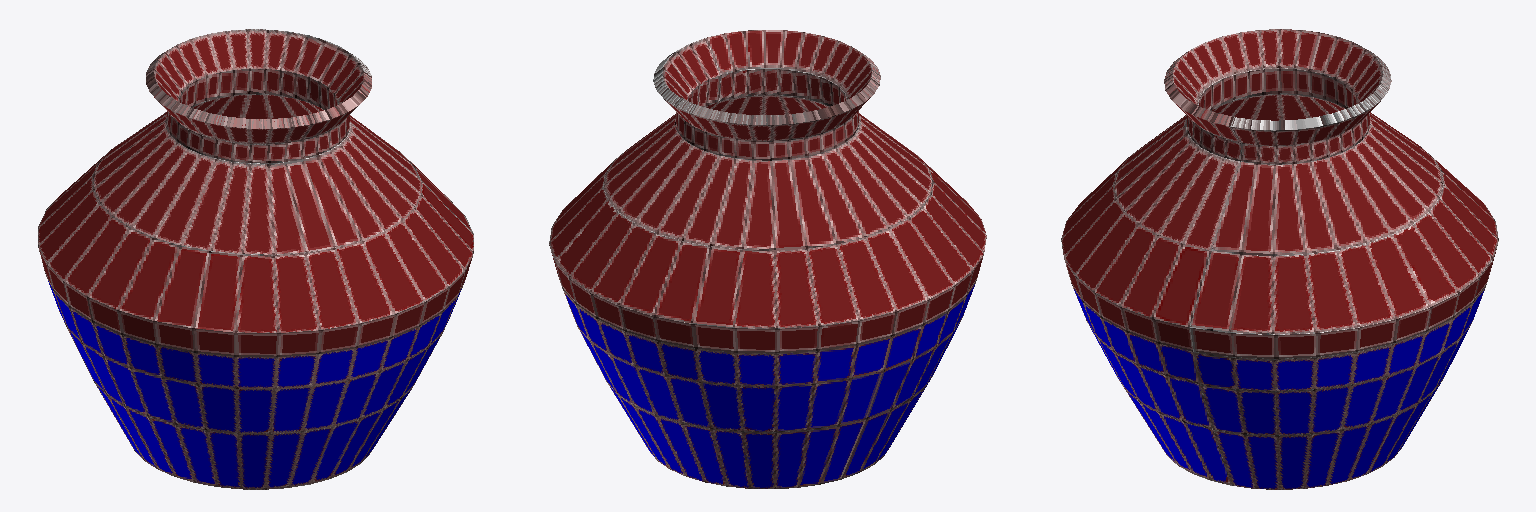
3 views of the same model, side by side, from view 1: azimuth 30°, elevation 25°; view 2: azimuth 150°, elevation 25°; view 3: azimuth 270°, elevation 25° (orthographic).
Visible parts, largest first — view 1: Circle; view 2: Circle; view 3: Circle.
Boxes of the visible parts, <box> form: Circle: <box>38,29,473,489</box>; Circle: <box>549,30,986,488</box>; Circle: <box>1061,29,1498,489</box>.
Size of the model in its own units: 0.6601 by 0.6116 by 0.6601.
Materials: 1 (1 with a texture image).